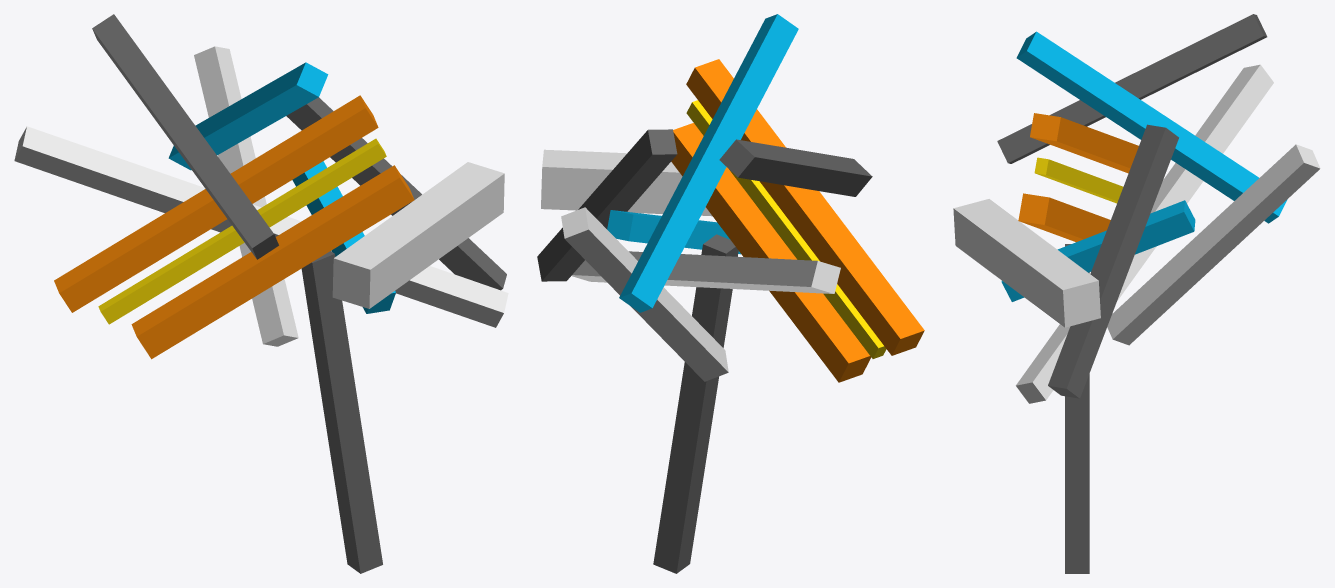
File: suprematism_tree.fbx
3 renders of one model, left to right at view 1: azimuth 30°, elevation 25°; view 2: azimuth 150°, elevation 25°; view 3: azimuth 270°, elevation 25°, orthographic. The views are drawn at different scales.
Parts seen in each view (by area): view 1: Cube.002; view 2: Cube.002; view 3: Cube.002.
Boxes of the visible parts, bbox=[...] form: Cube.002: bbox=[14, 14, 508, 573]; Cube.002: bbox=[537, 14, 924, 573]; Cube.002: bbox=[953, 14, 1320, 573].
Bounding box in the file's own units: 5.78 × 7.23 × 4.78.
